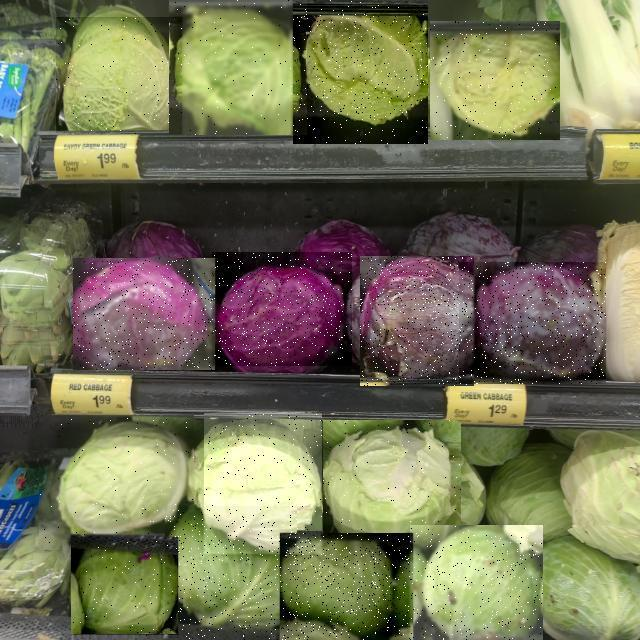Cabbage: (39, 416, 194, 544), (323, 421, 461, 563), (293, 0, 428, 144), (169, 0, 307, 135), (459, 263, 606, 385), (165, 508, 297, 640), (204, 414, 322, 554), (212, 252, 352, 366), (73, 258, 215, 370), (430, 21, 560, 140), (410, 525, 543, 640), (360, 256, 474, 386), (57, 17, 183, 134), (280, 533, 413, 640), (71, 538, 178, 638)
